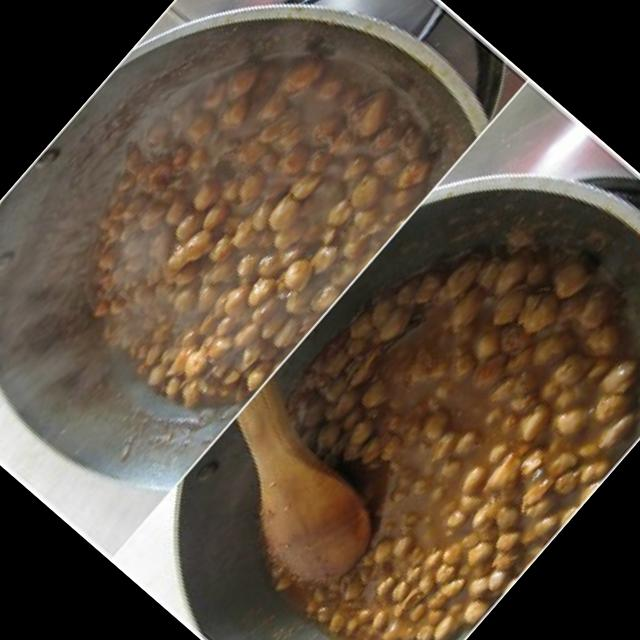Chole: (181, 165, 640, 640), (17, 0, 462, 443)
